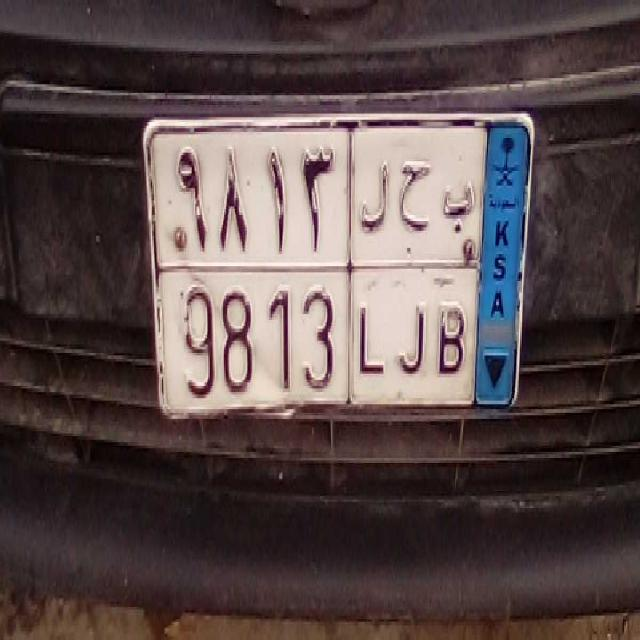license_plate: (156, 269, 476, 423)
